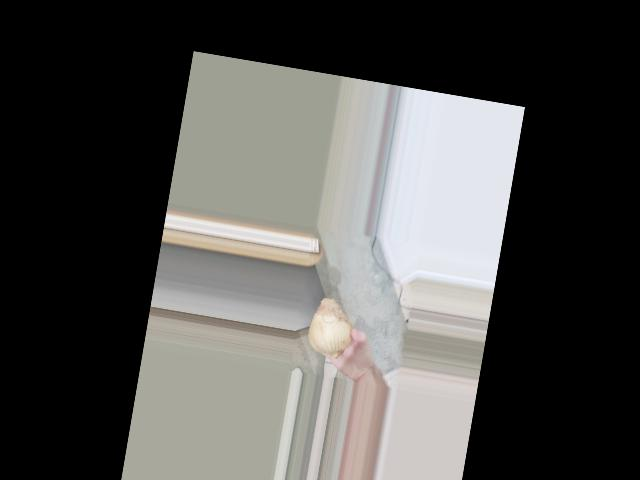onion: (308, 294, 359, 357)
